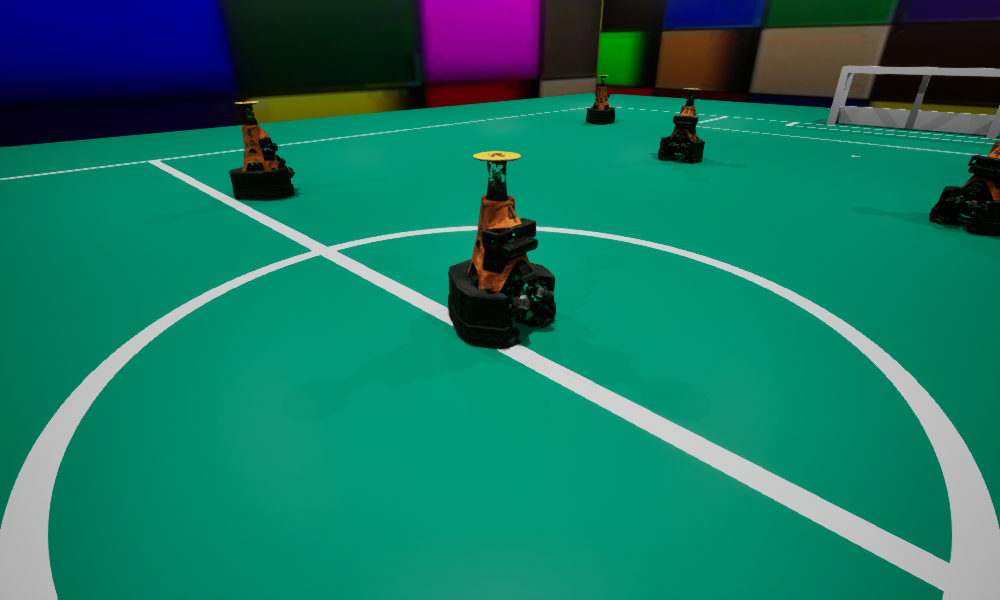0 orange robot TechUnited: (448, 151, 555, 348), (929, 141, 999, 235), (229, 101, 294, 200), (658, 88, 704, 162), (586, 75, 614, 124)
